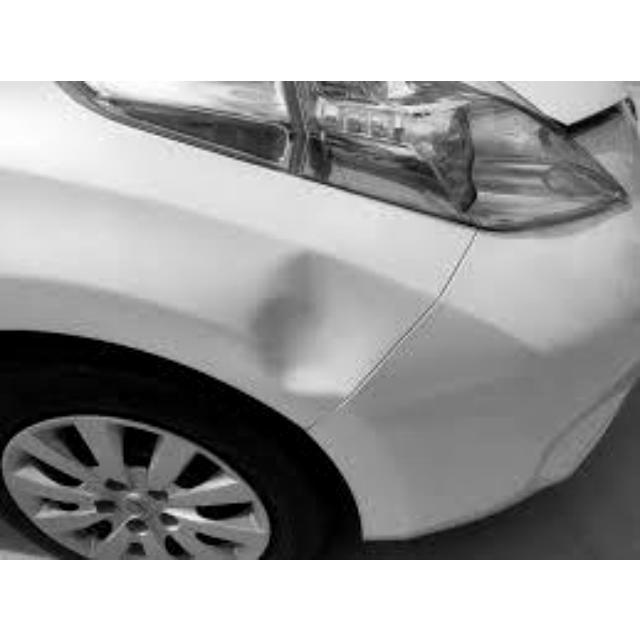fender-dent: (0, 199, 420, 446)
